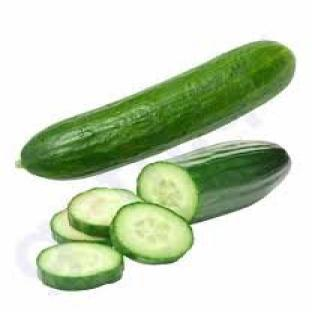Cucumber: (20, 42, 295, 178), (138, 142, 290, 222), (110, 203, 193, 264), (38, 242, 122, 290), (68, 188, 140, 237), (50, 210, 110, 245)
